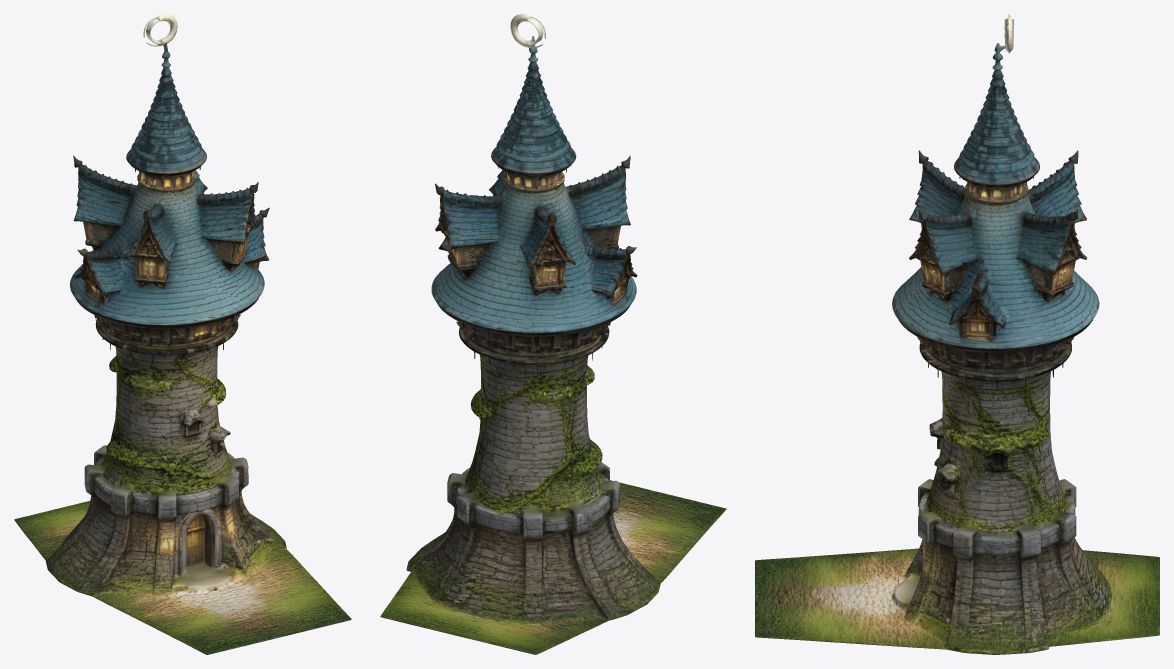
Rendered from burg.glb.
The picture shows the model from 3 angles, left to right: view 1: azimuth 30°, elevation 25°; view 2: azimuth 150°, elevation 25°; view 3: azimuth 270°, elevation 25°; orthographic projection. The views are drawn at different scales.
Visible parts, largest first — view 1: node_0; view 2: node_0; view 3: node_0.
Boxes of the visible parts, x1,y1,x2,y2 form: node_0: [14, 14, 351, 654]; node_0: [380, 14, 726, 654]; node_0: [755, 14, 1159, 654].
Size of the model in its own units: 0.4121 by 0.9847 by 0.6213.
Materials: 1 (1 with a texture image).
